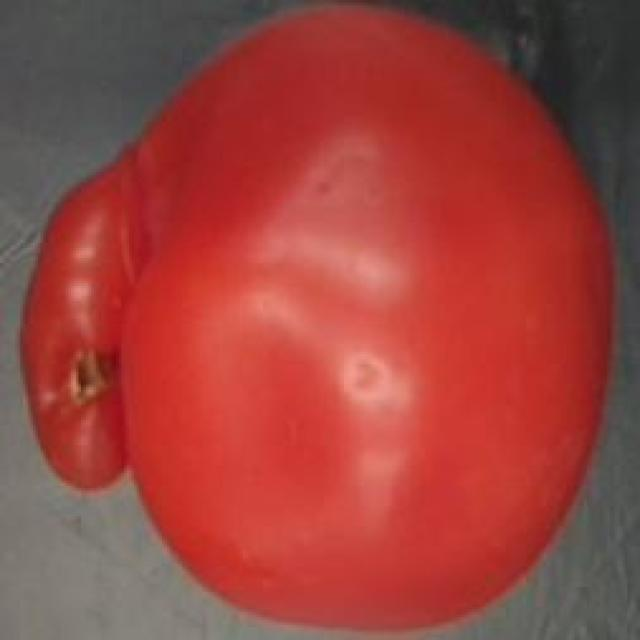overripe tomato: (13, 10, 627, 640)
